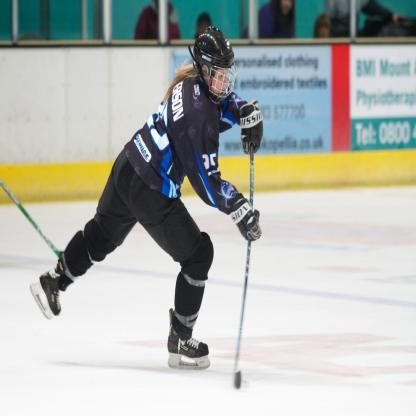Helmet: (192, 29, 233, 100)
